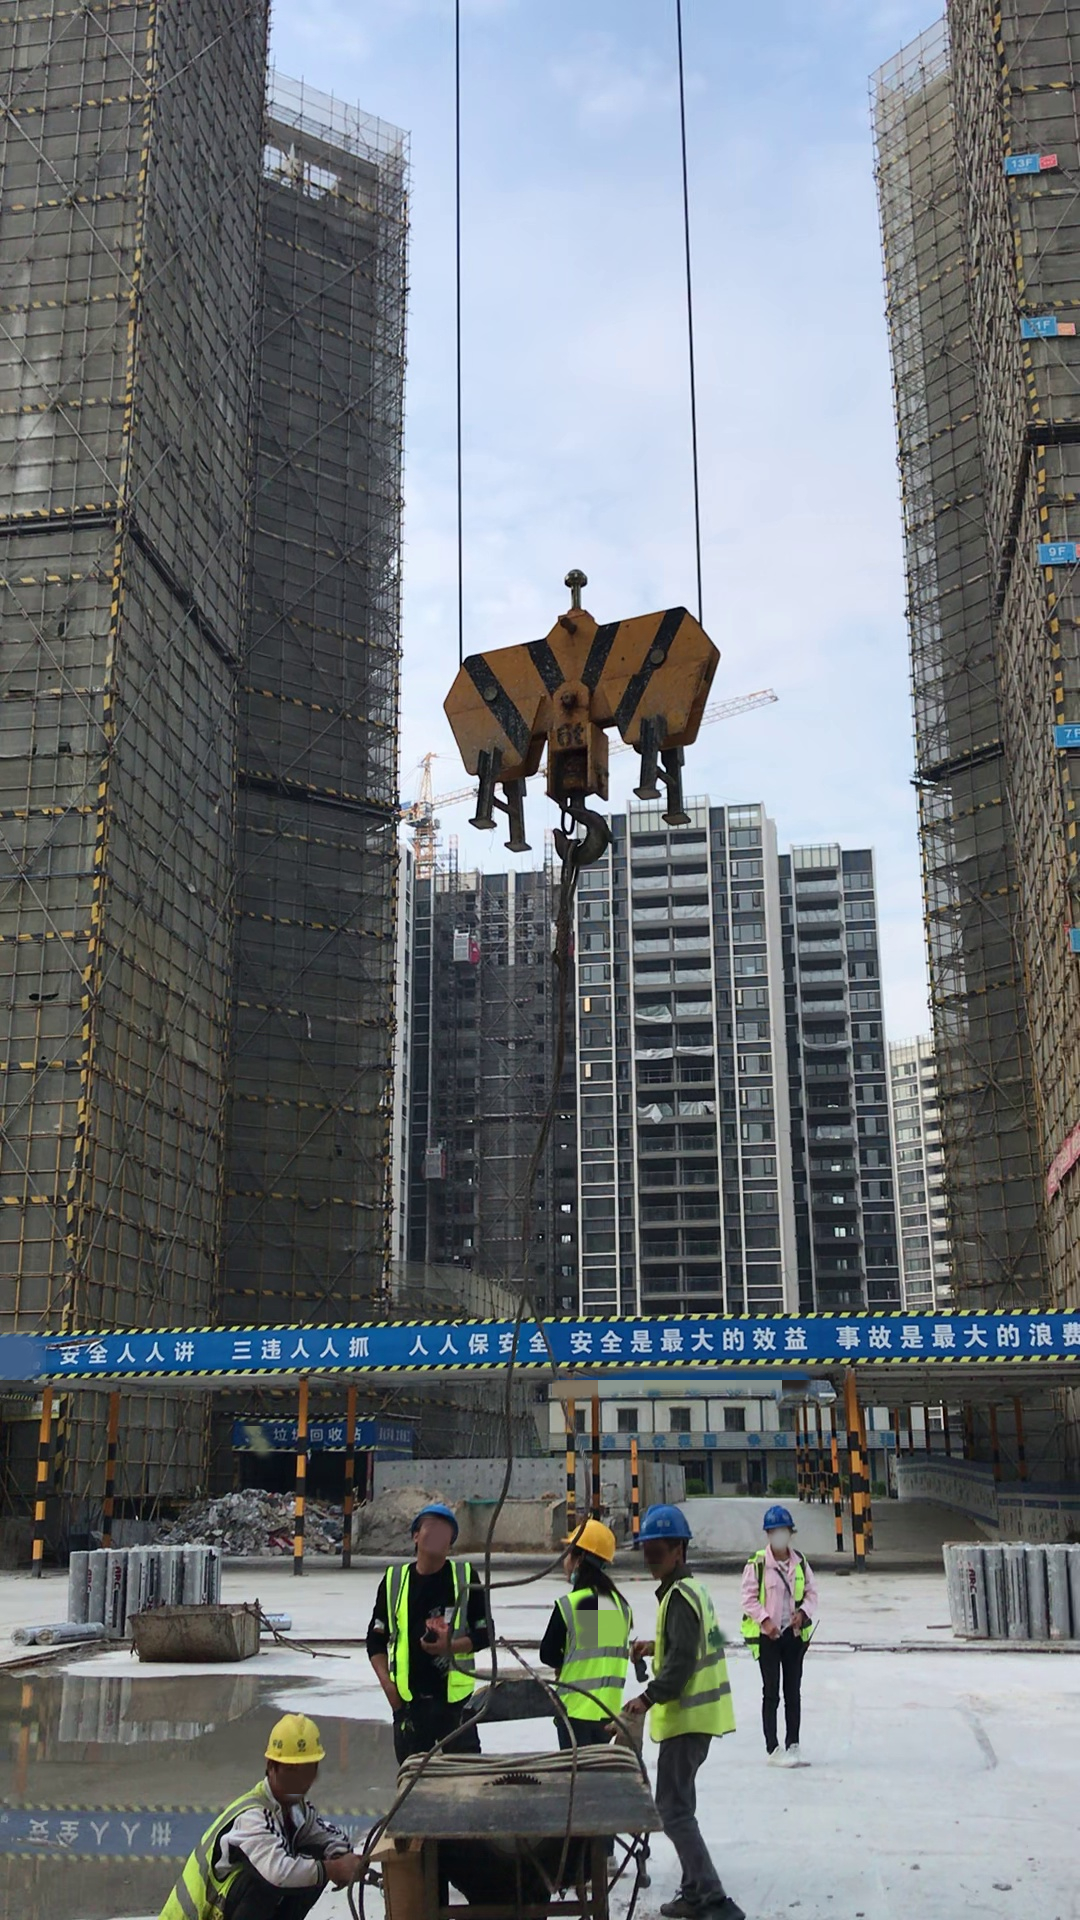cutter: (384, 1747, 652, 1920)
helmet: (256, 1706, 331, 1768), (564, 1508, 624, 1565), (645, 1497, 699, 1545), (757, 1500, 807, 1536), (417, 1498, 468, 1529)
hook: (405, 581, 773, 847)
hopper: (111, 1588, 271, 1665)
person: (631, 1520, 743, 1920), (160, 1698, 330, 1920), (386, 1509, 498, 1773), (745, 1501, 846, 1772), (546, 1501, 638, 1769)
slogan: (73, 1305, 1078, 1370)
vest: (174, 1788, 324, 1920), (649, 1579, 741, 1750), (386, 1562, 486, 1713), (549, 1586, 627, 1729)
